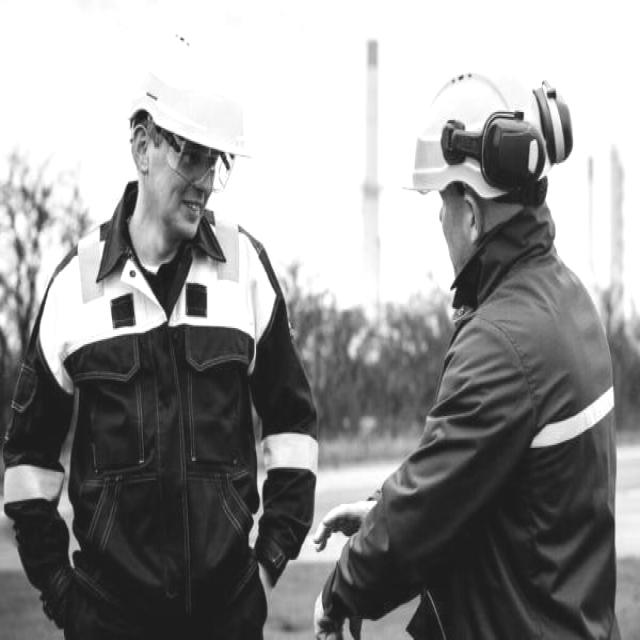face_nomask: (427, 150, 500, 293), (150, 139, 232, 235)
glasses: (166, 129, 238, 194)
hand_noglove: (303, 486, 382, 568), (295, 577, 371, 640)
head_helmet: (400, 59, 557, 203), (127, 27, 255, 152)
person: (49, 38, 272, 640), (390, 84, 618, 638)
